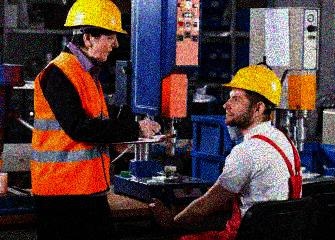helmet: (62, 1, 129, 62), (221, 65, 281, 127)
